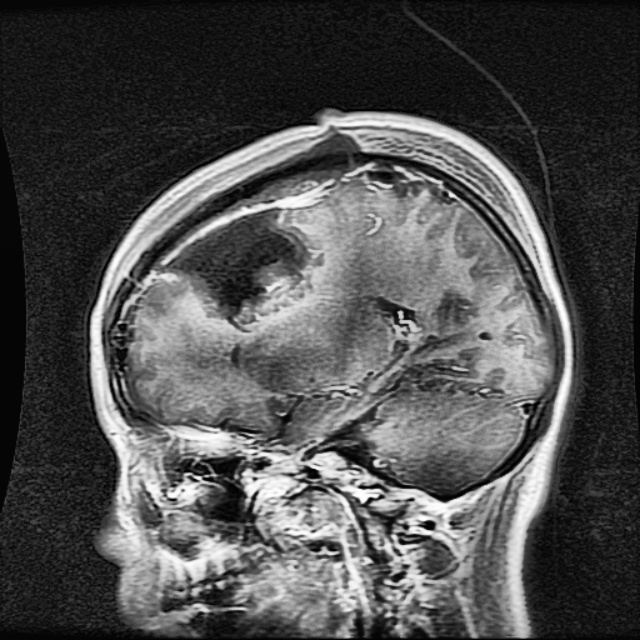Meningioma: (159, 204, 308, 322)
